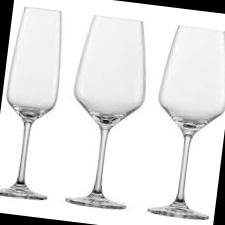glass: (54, 0, 163, 217), (142, 19, 225, 225), (0, 0, 82, 193)
